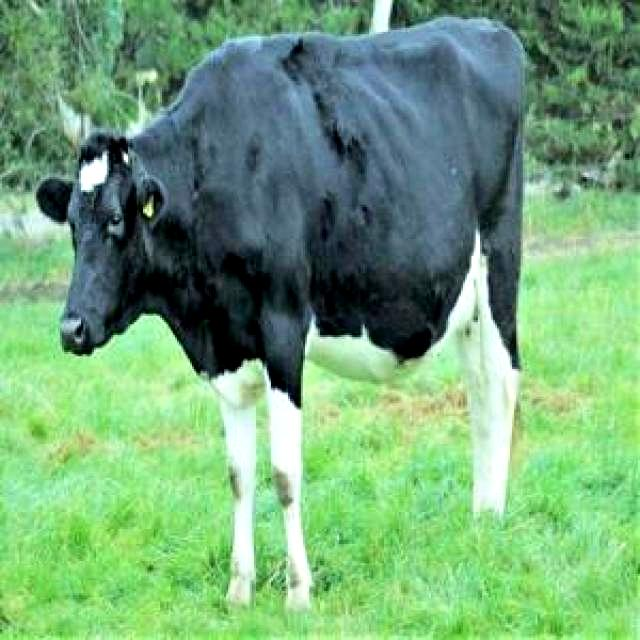COW: (36, 18, 525, 611)
